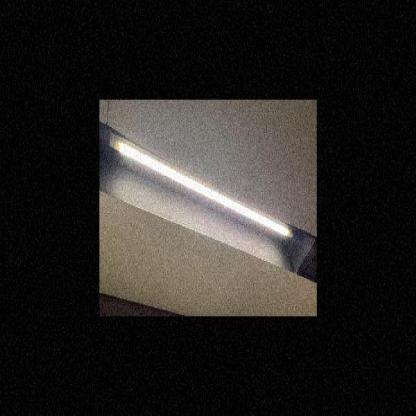light_on: (107, 125, 294, 252)
